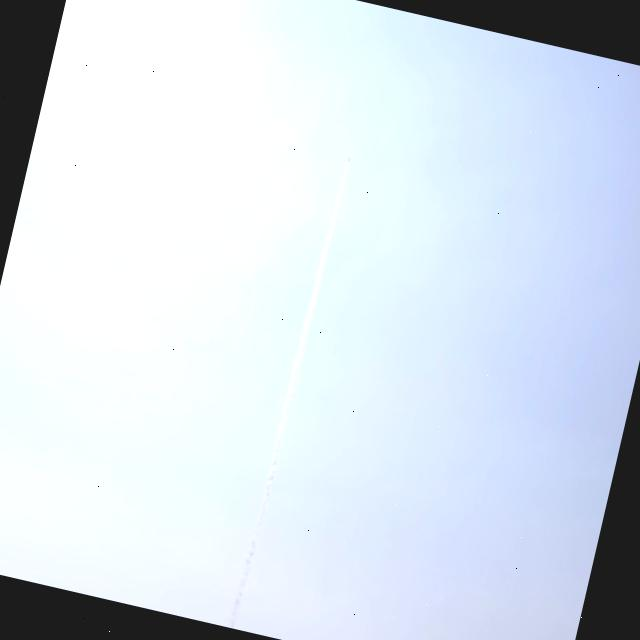smoke_trail_no_rocket: (227, 237, 329, 629)
